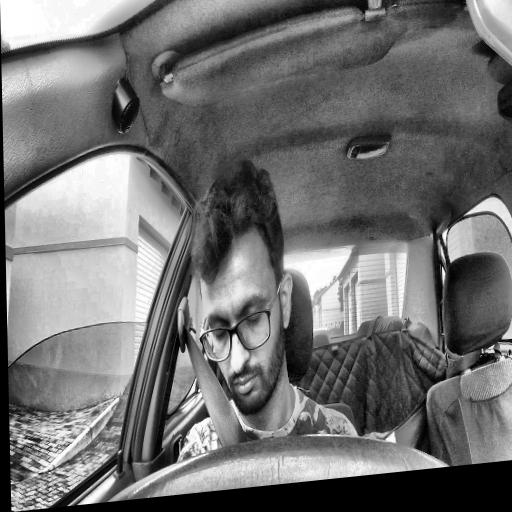drowsy: (189, 155, 296, 419)
